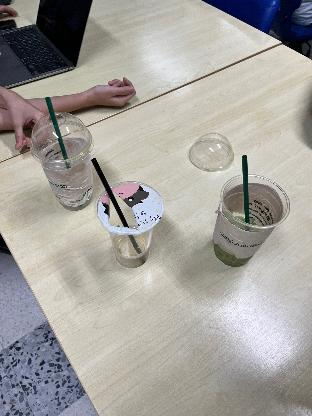Plastic Cup: (209, 172, 294, 268), (95, 180, 167, 270), (32, 120, 98, 212), (28, 112, 92, 162)
